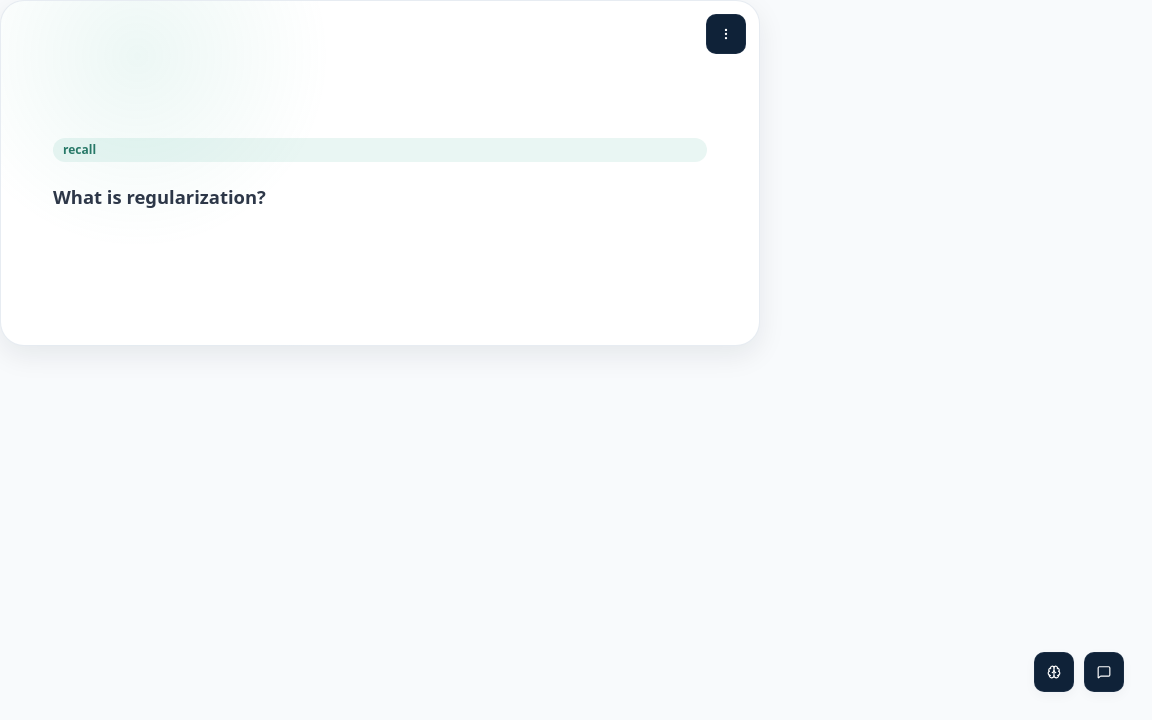
it: ReviewSession › keeps the evaluation draft and shows an actionable message when the AI plugin is not configured
The image size is (1152, 720).
Click the button named "self-assessment". click: (1054,672)
box: [1034,652,1074,692]
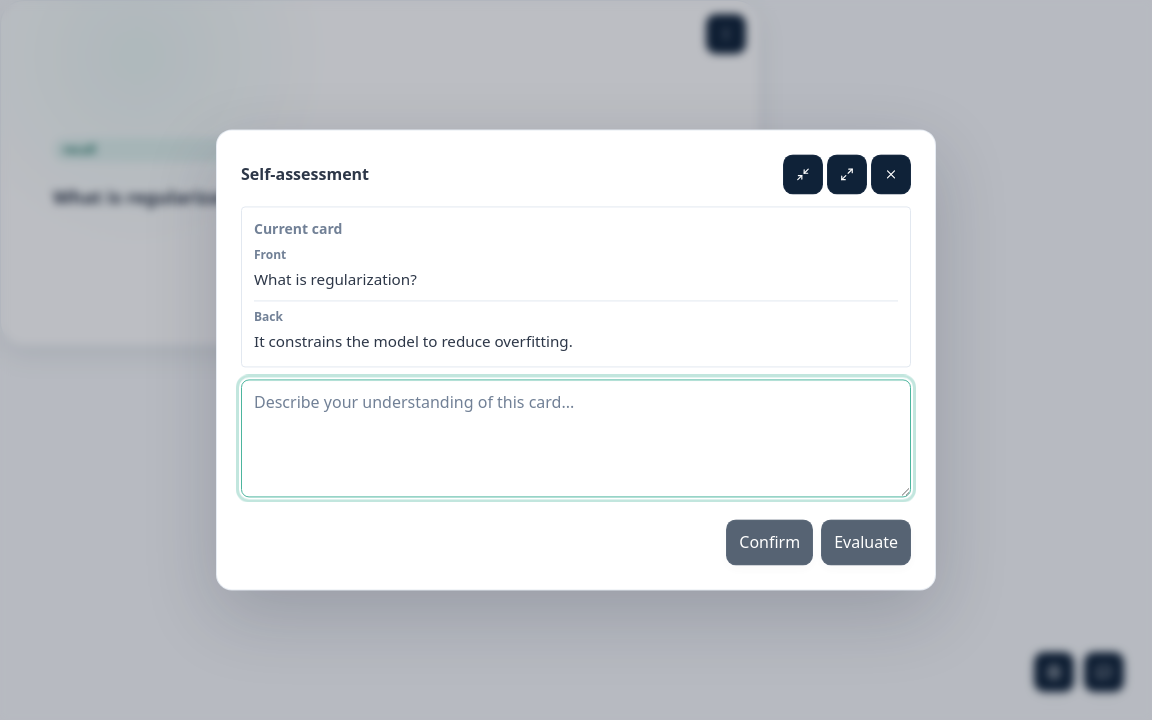
Type "It prevents overfitting by constraining the model." into the text box with placeholder "Describe your understanding of this card...". click: (576,439)
box: [241,380,911,498]
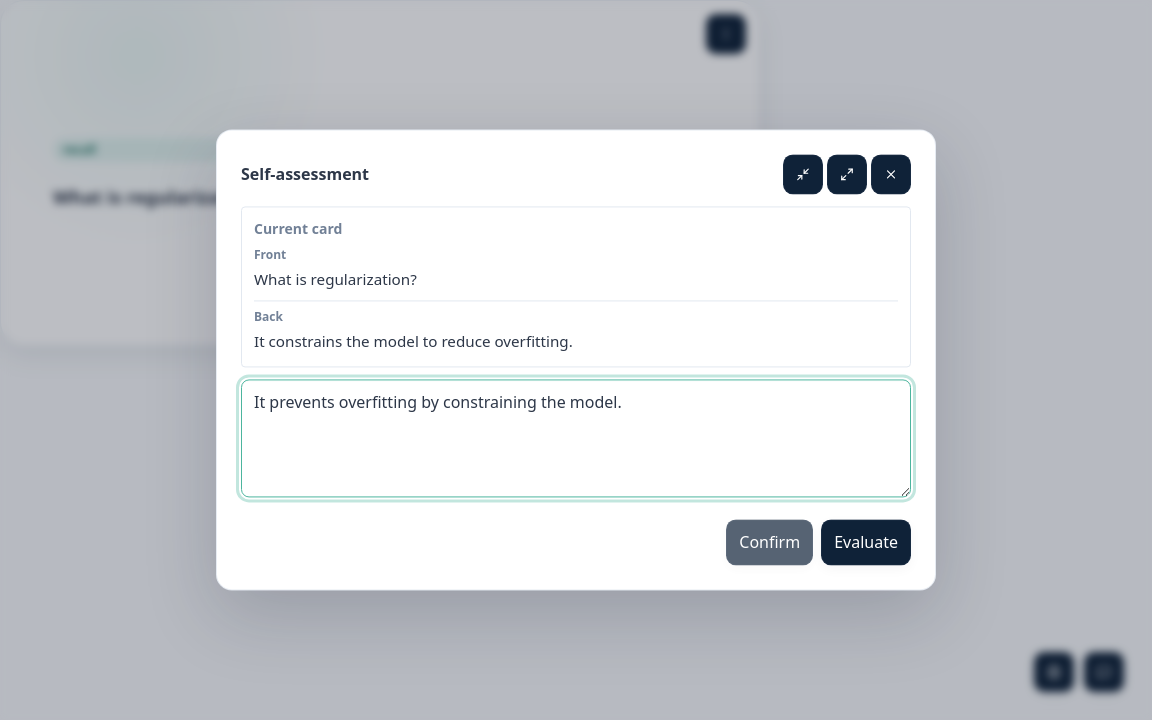
Click the button "Evaluate". click: (866,543)
box: [821,520,911,566]
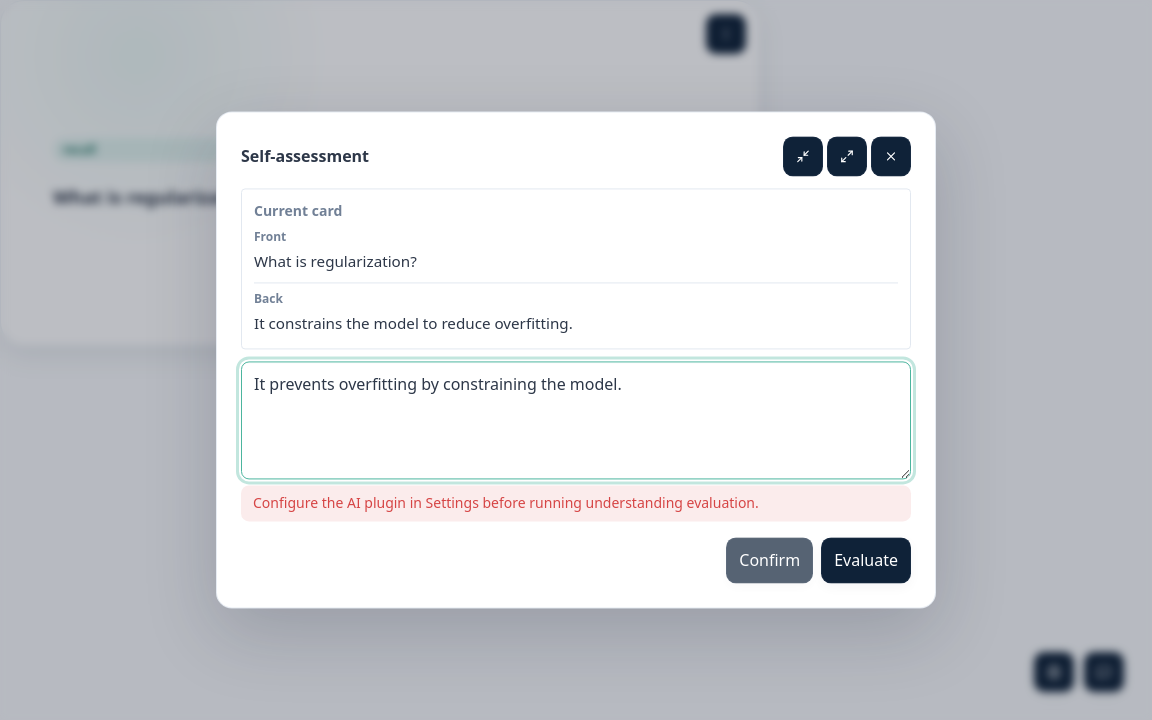
Now the text "Configure the AI plugin in Settings before running understanding evaluation." is shown, box [241,486,911,522]
